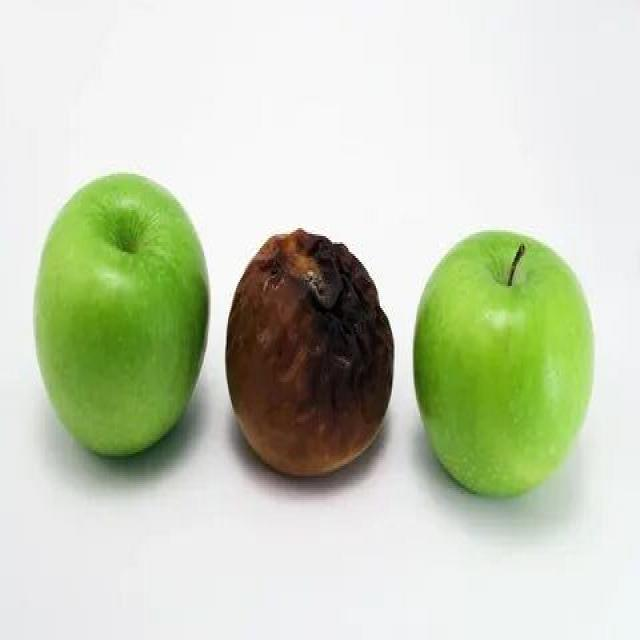fresh_apple: (32, 178, 212, 456), (415, 233, 593, 495)
rotten_apple: (225, 231, 392, 479)
